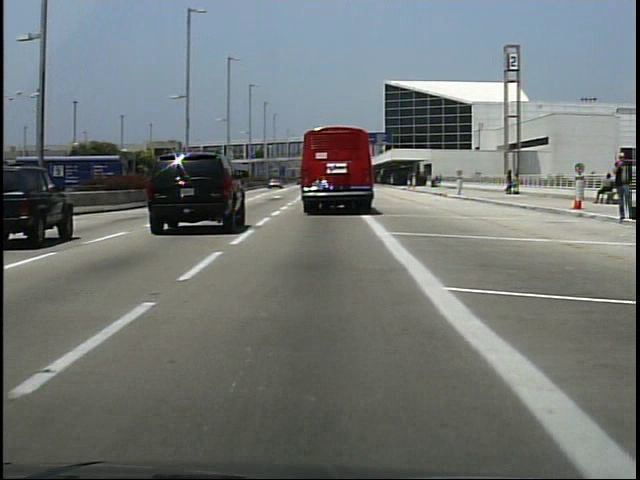person: (608, 152, 635, 225), (590, 170, 615, 207)
